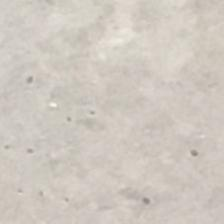Non_Crack: (20, 16, 224, 224)
